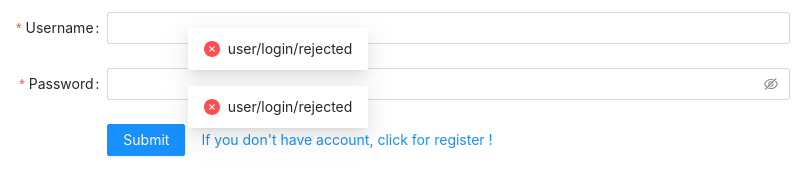
Test case: should alerts appear/disappear under inputs, after clicking submit depends on credentials
Clear the field labelled "Username" at (449, 28), box [107, 12, 790, 44]
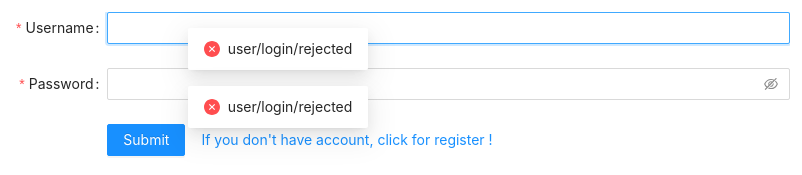
Clear the password field labelled "Password" at (440, 84), box [119, 73, 760, 95]
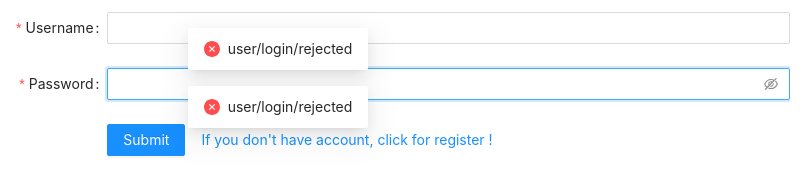
Click the button "Submit" at (146, 140), box [107, 124, 185, 156]
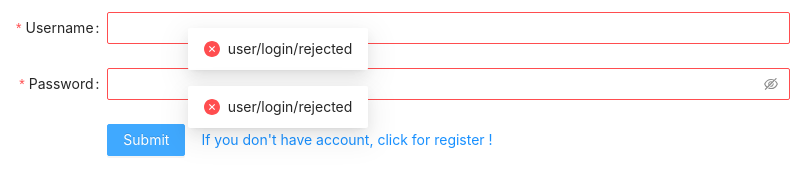
Type "selcuk" into the field labelled "Username" at (449, 28), box [107, 12, 790, 44]
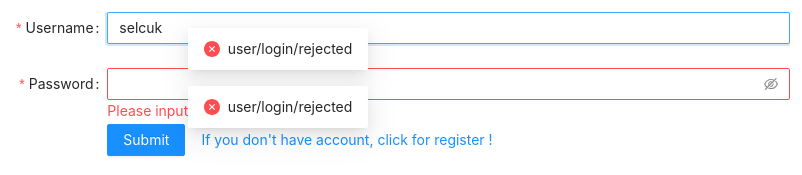
Expected: the text "please input your username!" is not shown
Type "12345" into the password field labelled "Password" at (440, 84), box [119, 73, 760, 95]
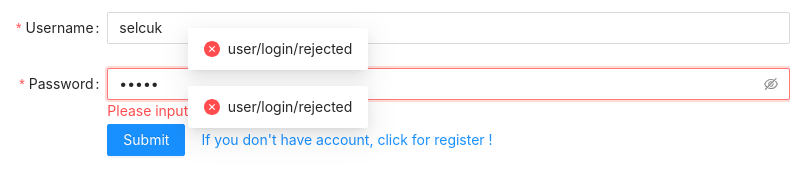
Now the text "Please input your password!" is shown, box [107, 102, 294, 119]
Type "6" into the password field labelled "Password" at (440, 84), box [119, 73, 760, 95]
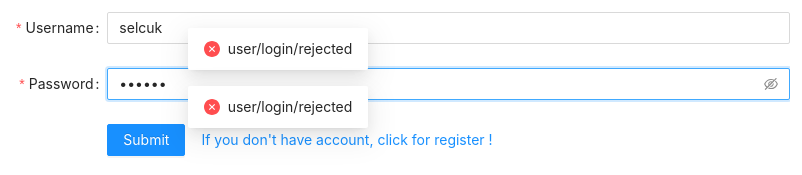
Now the text "Please input your password!" is gone
